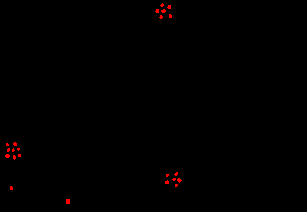Target: (177, 178, 182, 183), (161, 9, 166, 13), (5, 154, 10, 158), (66, 199, 70, 204), (160, 3, 164, 7), (167, 5, 171, 9), (155, 9, 159, 13), (159, 15, 163, 19), (13, 142, 17, 146), (174, 172, 178, 176), (165, 180, 169, 184), (13, 155, 16, 160), (169, 14, 172, 18), (7, 148, 10, 152), (12, 148, 15, 152), (172, 178, 176, 181), (10, 186, 13, 190), (6, 143, 9, 146), (17, 148, 20, 151), (18, 154, 21, 157), (166, 174, 169, 177), (175, 184, 178, 187)
